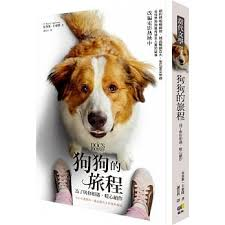dog: (53, 48, 149, 145)
